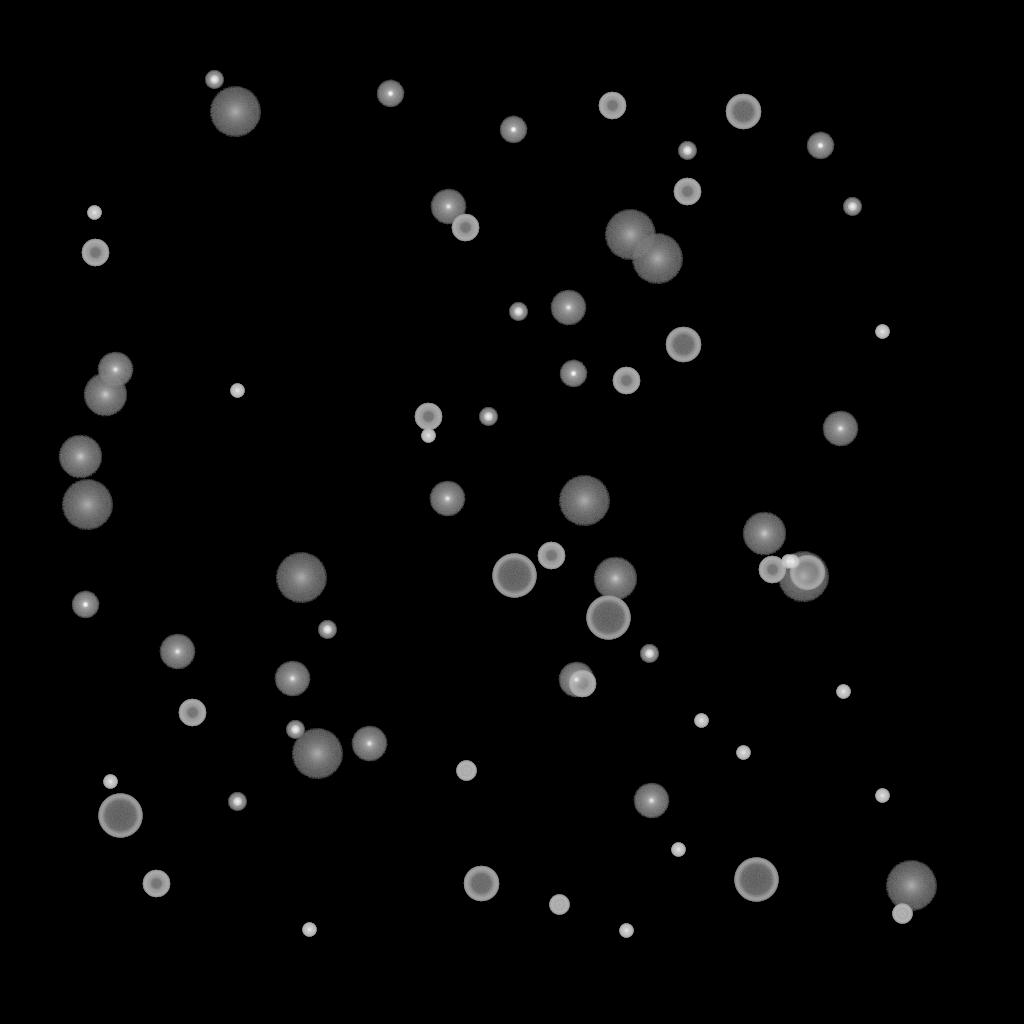depth:-10: (559, 360, 587, 388), (376, 80, 404, 108), (71, 591, 99, 619), (806, 132, 834, 160), (499, 116, 527, 144)
depth:-20: (640, 645, 658, 663), (843, 198, 861, 216), (205, 71, 223, 89), (479, 408, 497, 426), (678, 142, 696, 160), (286, 721, 304, 739), (318, 621, 336, 639), (509, 303, 527, 321), (228, 793, 246, 811)
depth:-30: (836, 685, 850, 699), (421, 429, 435, 443), (619, 924, 633, 938), (302, 923, 316, 937), (671, 843, 685, 857), (785, 555, 799, 569), (781, 555, 795, 569), (87, 206, 101, 220), (736, 746, 750, 760), (230, 384, 244, 398), (875, 789, 889, 803), (694, 714, 708, 728), (103, 775, 117, 789), (875, 325, 889, 339)
depth:-40: (549, 895, 569, 915), (456, 761, 476, 781), (892, 904, 912, 924)
depth:-50: (142, 870, 170, 898), (537, 542, 565, 570), (673, 178, 701, 206), (178, 699, 206, 727), (451, 214, 479, 242), (81, 239, 109, 267), (568, 670, 596, 698), (612, 367, 640, 395), (758, 556, 786, 584), (414, 403, 442, 431), (598, 92, 626, 120)
depth:-60: (463, 866, 499, 902), (665, 327, 701, 363), (789, 555, 825, 591), (725, 94, 761, 130)
depth:-70: (734, 858, 778, 902), (586, 596, 630, 640), (492, 554, 536, 598), (98, 794, 142, 838)
depth:0: (558, 662, 594, 698), (274, 661, 310, 697), (159, 634, 195, 670), (822, 411, 858, 447), (97, 352, 133, 388), (430, 189, 466, 225), (429, 481, 465, 517), (351, 726, 387, 762), (550, 290, 586, 326), (633, 783, 669, 819)
depth:10: (83, 373, 127, 417), (742, 512, 786, 556), (58, 435, 102, 479), (593, 557, 637, 601)
depth:20: (291, 729, 343, 779), (777, 552, 829, 602), (604, 210, 656, 260), (61, 480, 113, 530), (209, 87, 261, 137), (275, 553, 327, 603), (631, 234, 683, 284), (885, 861, 937, 911), (558, 476, 610, 526)
